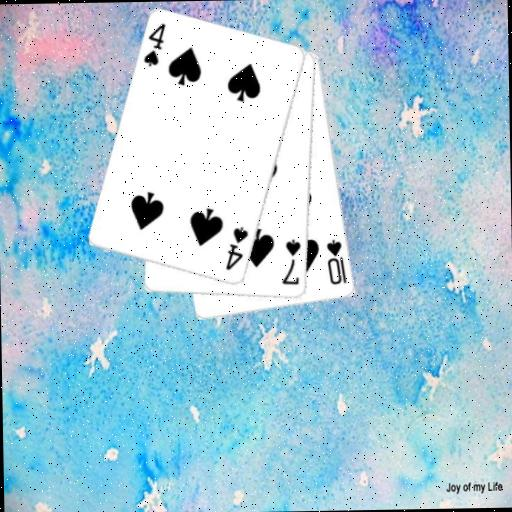10S: (323, 236, 349, 287)
4S: (223, 225, 251, 273), (141, 21, 169, 69)
7S: (279, 237, 304, 287)
